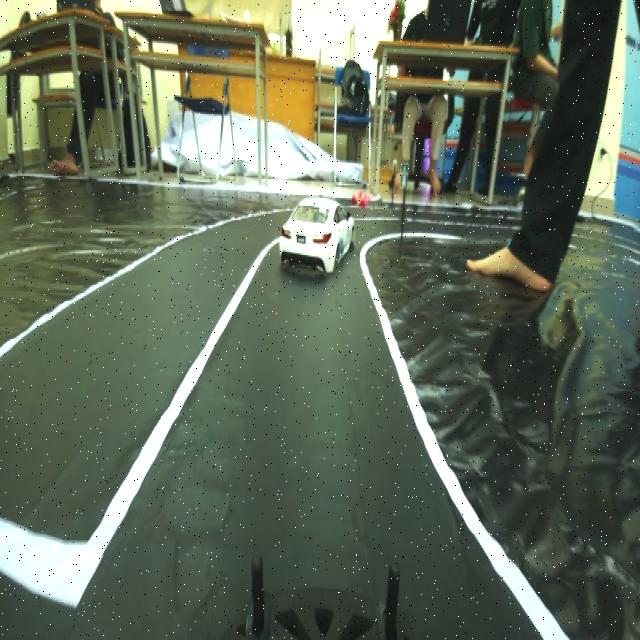car: (284, 188, 350, 290)
